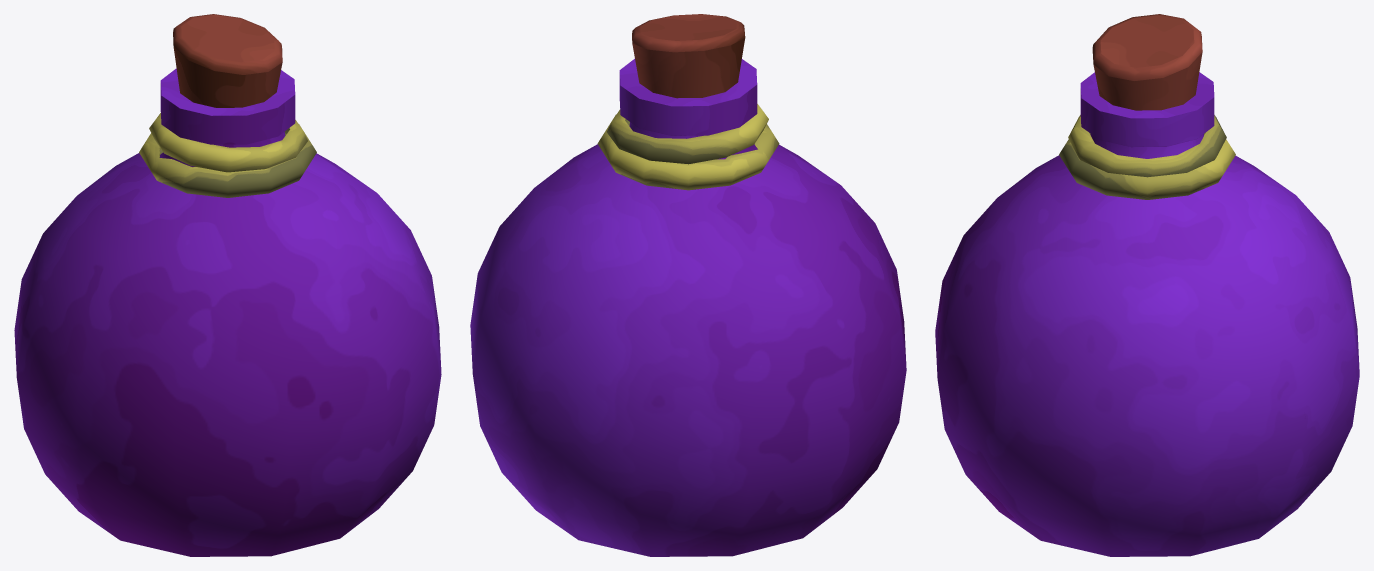
File: PurplePotion.fbx
3 renders of one model, left to right at view 1: azimuth 30°, elevation 25°; view 2: azimuth 150°, elevation 25°; view 3: azimuth 270°, elevation 25°, orthographic. The views are drawn at different scales.
Visible parts, largest first — view 1: potion_8.002, potion_8.003; view 2: potion_8.002, potion_8.003; view 3: potion_8.002, potion_8.003.
Boxes of the visible parts, box(x1,y1,x2,y2) form: potion_8.002: box(14, 68, 441, 556); potion_8.003: box(173, 14, 282, 107); potion_8.002: box(470, 58, 906, 556); potion_8.003: box(632, 14, 745, 98); potion_8.002: box(935, 72, 1359, 556); potion_8.003: box(1092, 14, 1202, 110).
Bounding box in the file's own units: 17.25 × 21.66 × 17.25.
1 material, 1 textured.
